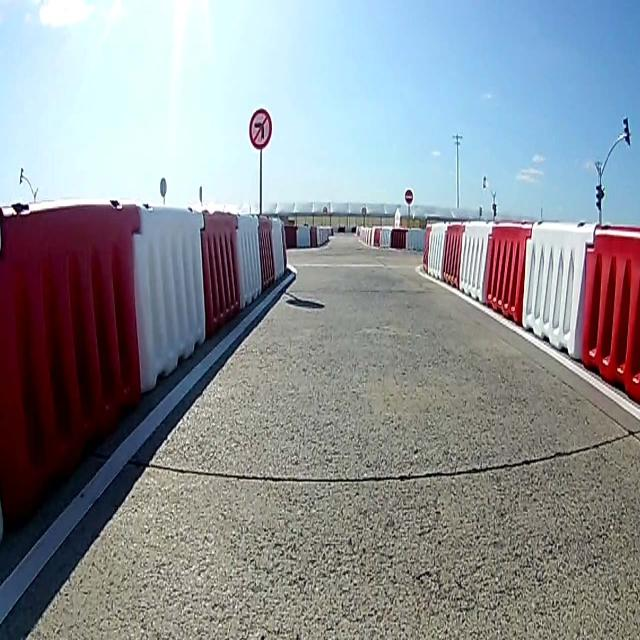girisyok: (405, 190, 413, 205)
soladonulmez: (249, 108, 272, 148)
